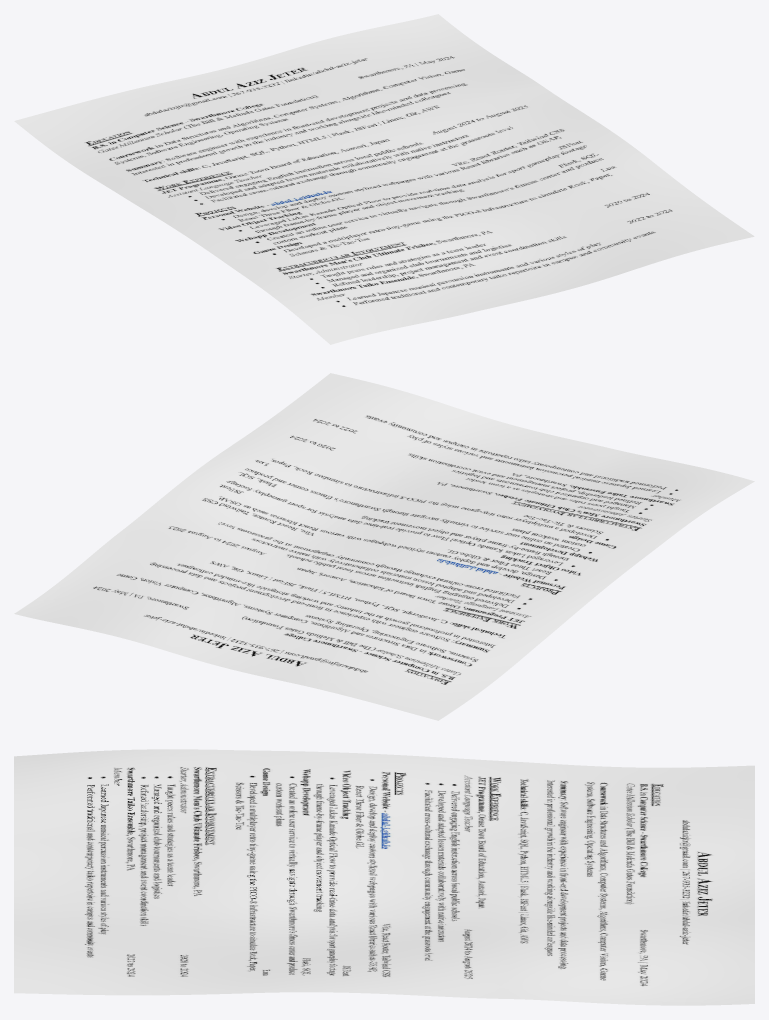
File: resume.glb
3 views of the same model, one above another, from view 1: azimuth 30°, elevation 25°; view 2: azimuth 150°, elevation 25°; view 3: azimuth 270°, elevation 25° (orthographic). The views are drawn at different scales.
Visible parts, largest first — view 1: Plane; view 2: Plane; view 3: Plane.
Boxes of the visible parts, left/top/right/bottom form: Plane: left=14, top=14, right=754, bottom=344; Plane: left=14, top=373, right=754, bottom=720; Plane: left=14, top=749, right=754, bottom=1005.
Bounding box in the file's own units: 216 × 7.79 × 279.
1 material, 1 textured.
